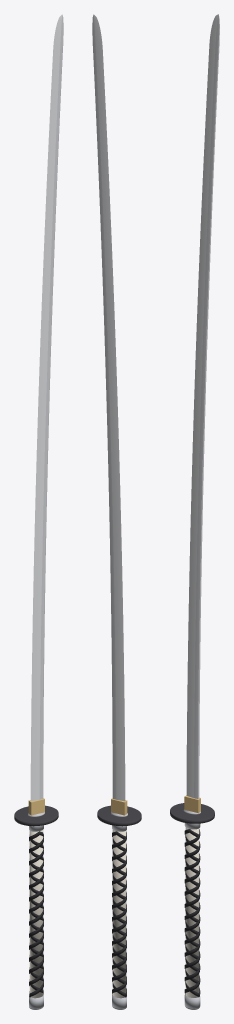
File: katana_long.glb
The picture shows the model from 3 angles, left to right: view 1: azimuth 30°, elevation 25°; view 2: azimuth 150°, elevation 25°; view 3: azimuth 330°, elevation 25°; orthographic projection.
Visible parts, largest first — view 1: katana_long; view 2: katana_long; view 3: katana_long.
Boxes of the visible parts, <box> form: katana_long: <box>14,14,63,1009</box>; katana_long: <box>92,14,141,1009</box>; katana_long: <box>170,14,219,1009</box>.
Size of the model in its own units: 0.1422 by 2.87 by 0.104.
